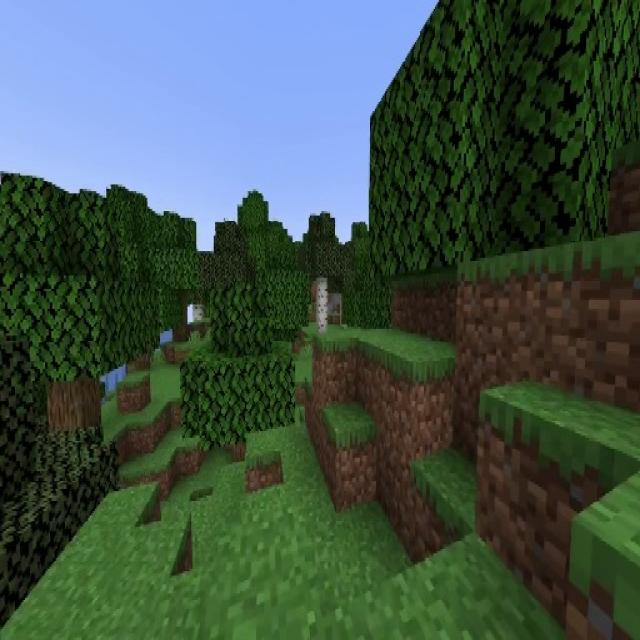birch: (301, 213, 346, 333)
birch_log: (317, 281, 328, 334)
oak: (0, 184, 153, 454), (184, 282, 298, 466), (147, 215, 210, 345)
oak_log: (49, 378, 100, 442)
